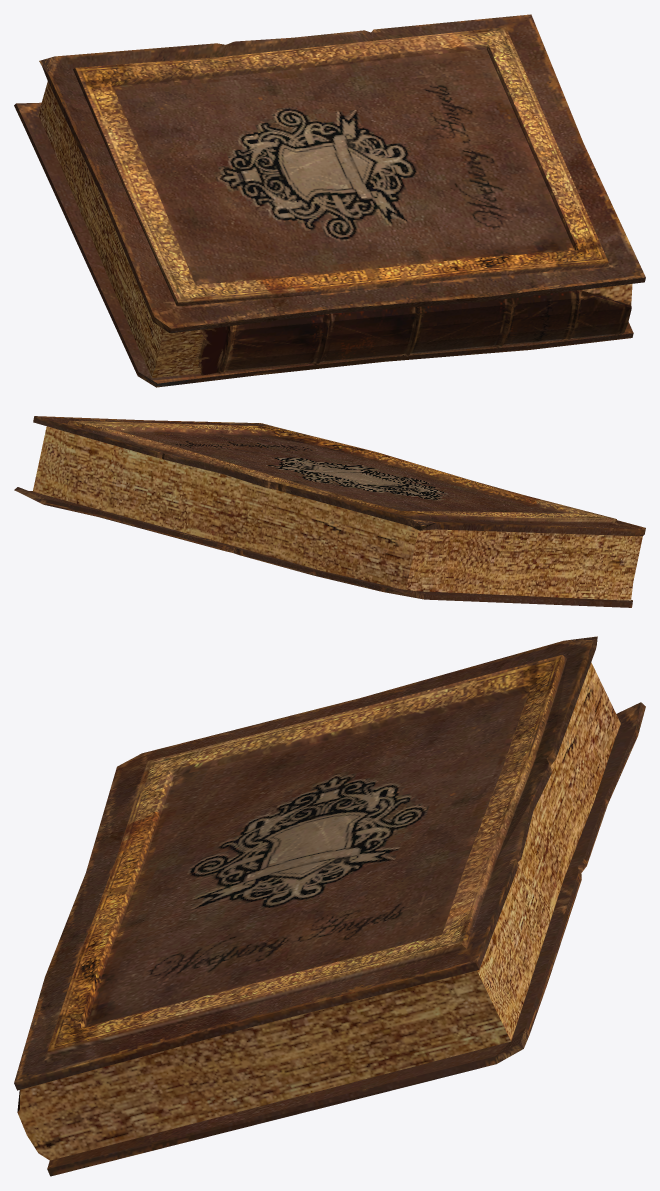
The model's file is Book.obj.
The picture shows the model from 3 angles, top to bottom: view 1: azimuth 30°, elevation 25°; view 2: azimuth 150°, elevation 25°; view 3: azimuth 270°, elevation 25°; orthographic projection. The views are drawn at different scales.
Size of the model in its own units: 39.38 by 16.48 by 32.07.
1 material, 1 textured.
